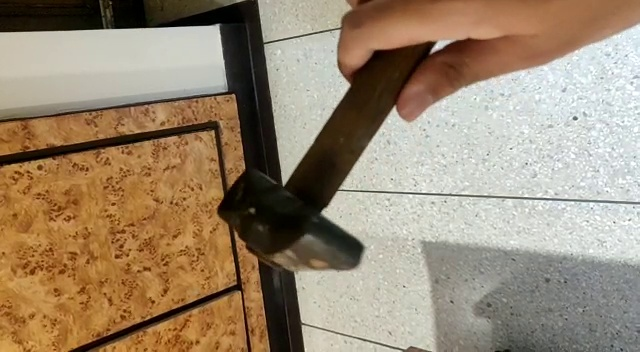hammer: (216, 39, 443, 276)
